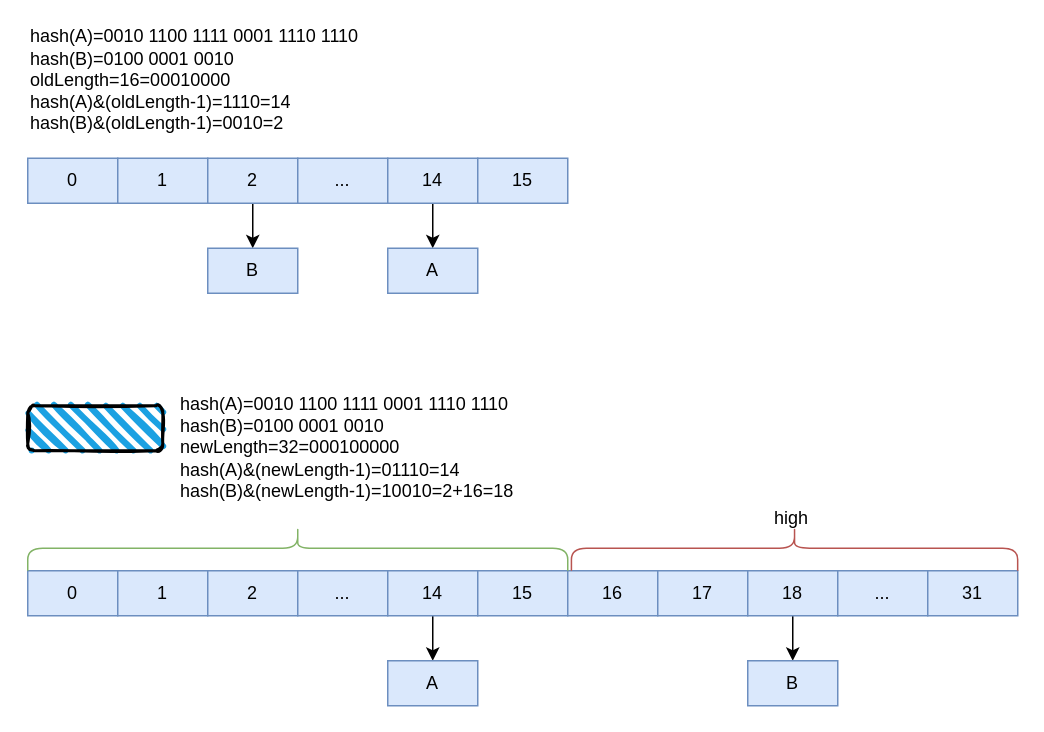
This 1044x732 diagram has some shape labels left out. The shapes that lost their labels are listed below. From the top down, each one's box as (x1, y1, x2, y2) in pixels, then its label:
(26, 404, 164, 452): 高低位链表扩容
(26, 524, 568, 571): low
